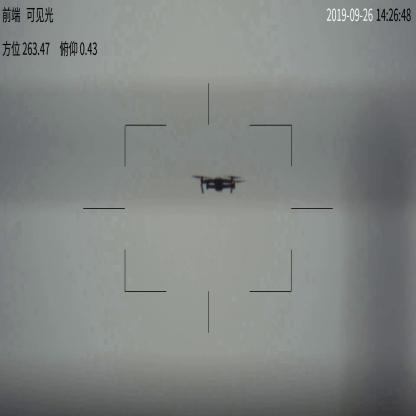uav: (193, 171, 243, 197)
